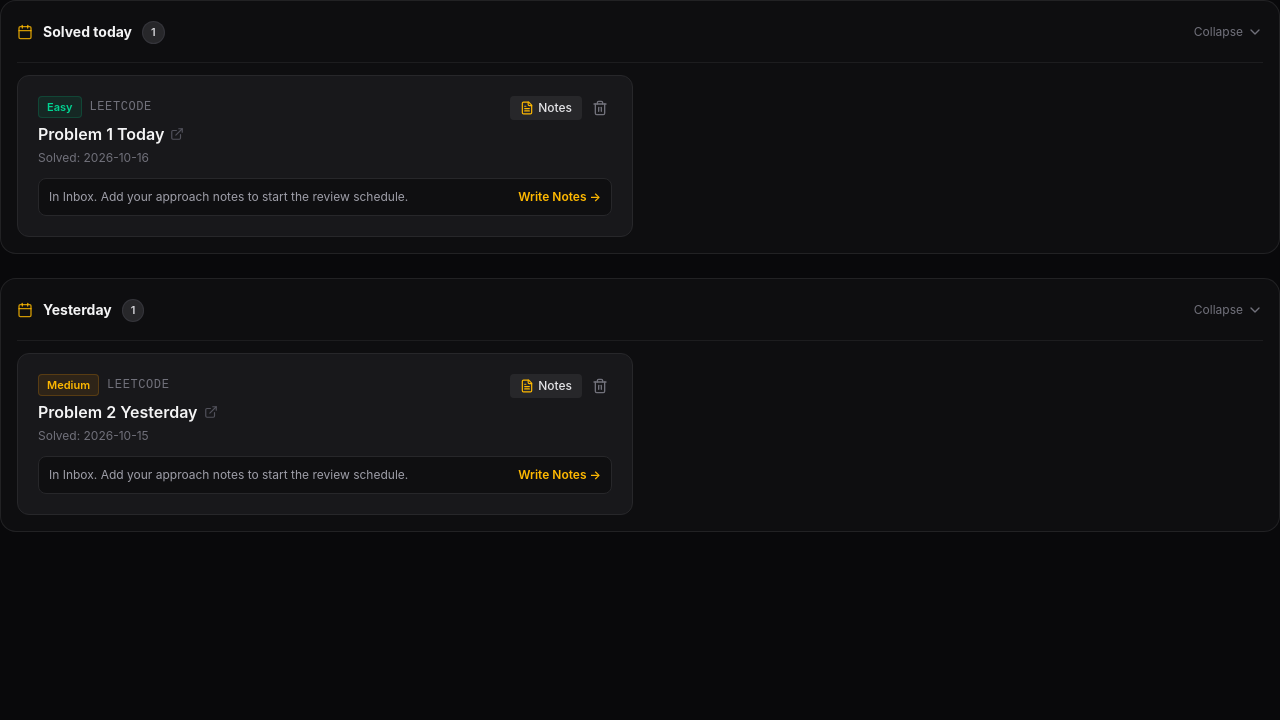
Test: Phase 6 & 7 Frontend Components › InboxGroupedList Component › Given multiple problems from different dates, When rendered, Then displays date headings and collapsible groups
The image size is (1280, 720).
Expected: the heading "Solved today" is shown, 43,22 -> 132,42
Expected: the heading "Yesterday" is shown, 43,300 -> 112,320
Note: Click Collapse on Solved today
Click the button "Solved today 1 Collapse": [88, 32] box 17,17 -> 1263,48
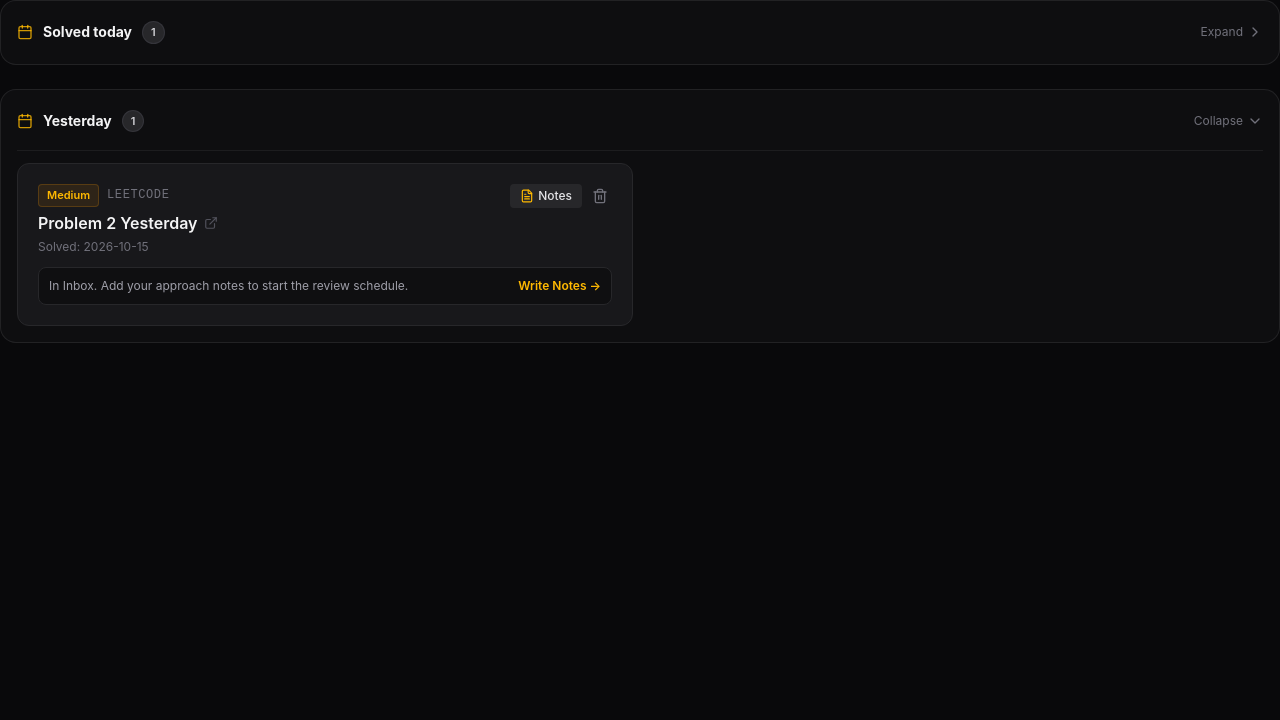
Expected: the link "Problem 2 Yesterday" is shown, 38,210 -> 198,234
Expected: the link "Problem 1 Today" is gone
